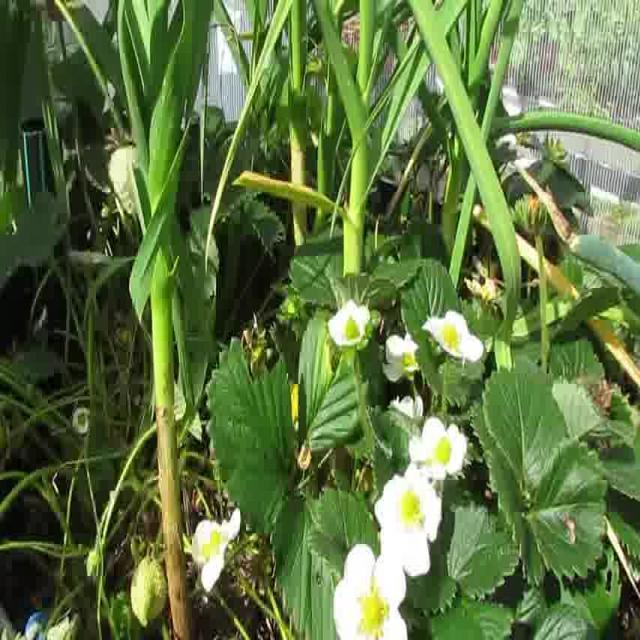Fruta sana: (129, 557, 168, 627), (346, 316, 360, 341)
